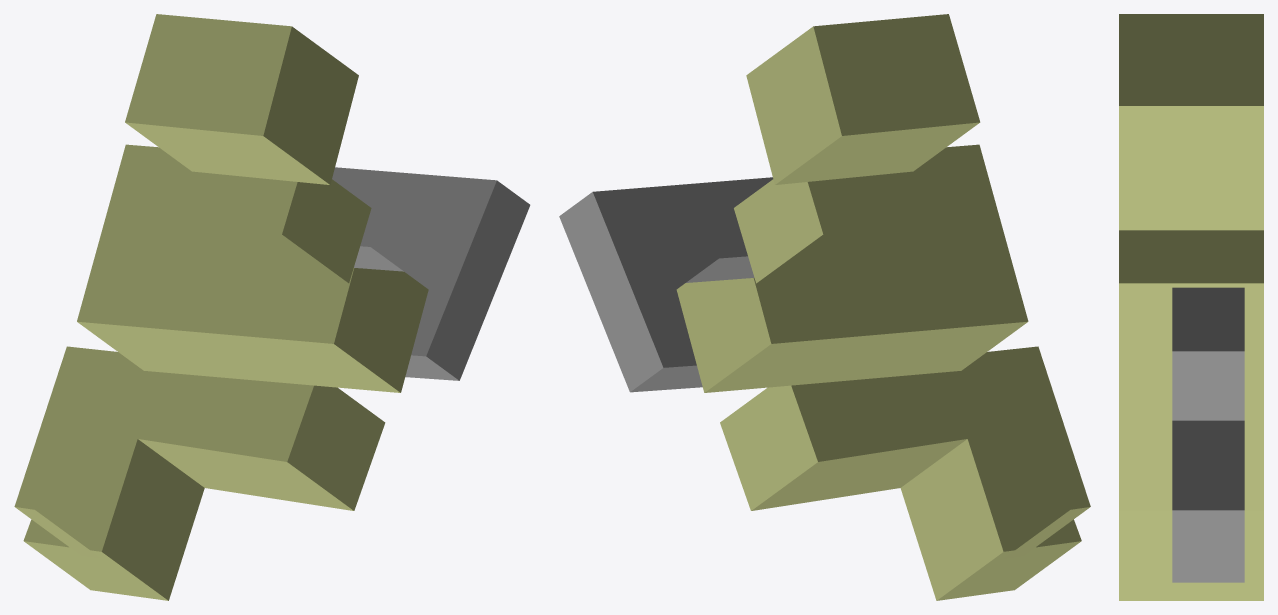
3 views of the same model, side by side, from view 1: azimuth 30°, elevation 25°; view 2: azimuth 150°, elevation 25°; view 3: azimuth 270°, elevation 25° (orthographic). The views are drawn at different scales.
Visible parts, largest first — view 1: 0_1_0_0_2_1_0_2_1_1; view 2: 0_1_0_0_2_1_0_2_1_1; view 3: 0_1_0_0_2_1_0_2_1_1.
Part boxes in pixels (<box>): 0_1_0_0_2_1_0_2_1_1: <box>14,14,530,600</box>; 0_1_0_0_2_1_0_2_1_1: <box>559,14,1090,600</box>; 0_1_0_0_2_1_0_2_1_1: <box>1119,14,1263,600</box>.
Bounding box in the file's own units: 24.46 × 25.89 × 6.
